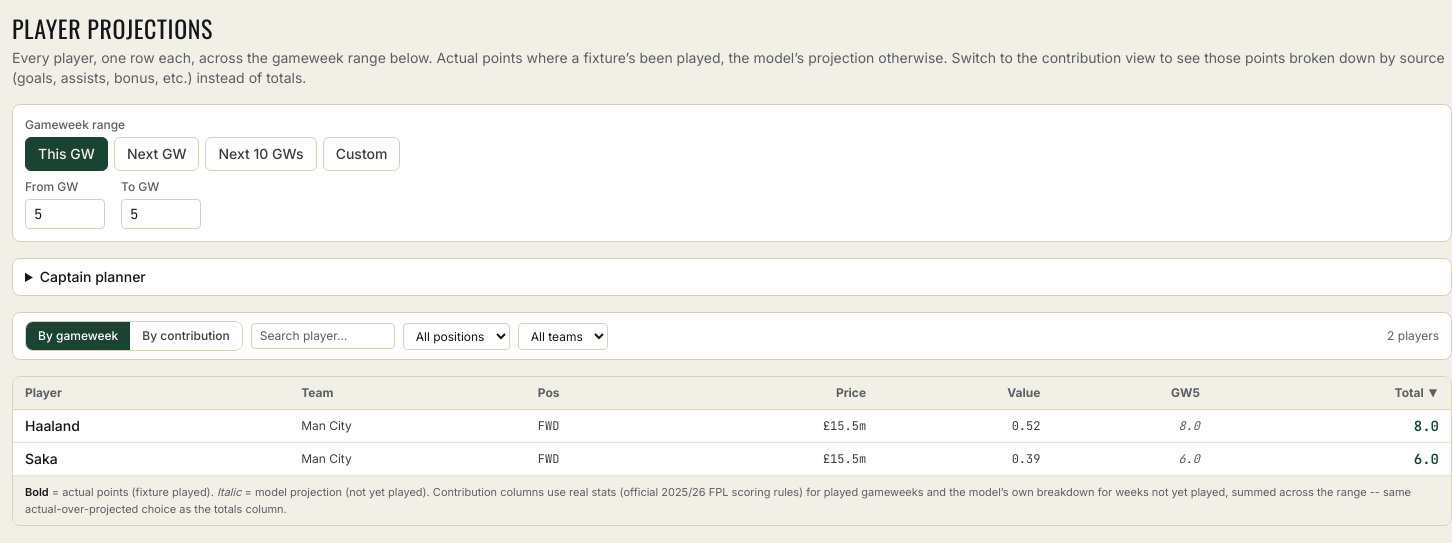
Scenario: PlayerProjectionsTablePage › filters by search text
Expected: the text "Haaland" is shown, [13,410,293,442]
Expected: the text "Saka" is shown, [13,442,293,475]
Type "saka" into the field with placeholder "Search player…".
click(323, 336); type("saka")  # box [251,323,395,349]
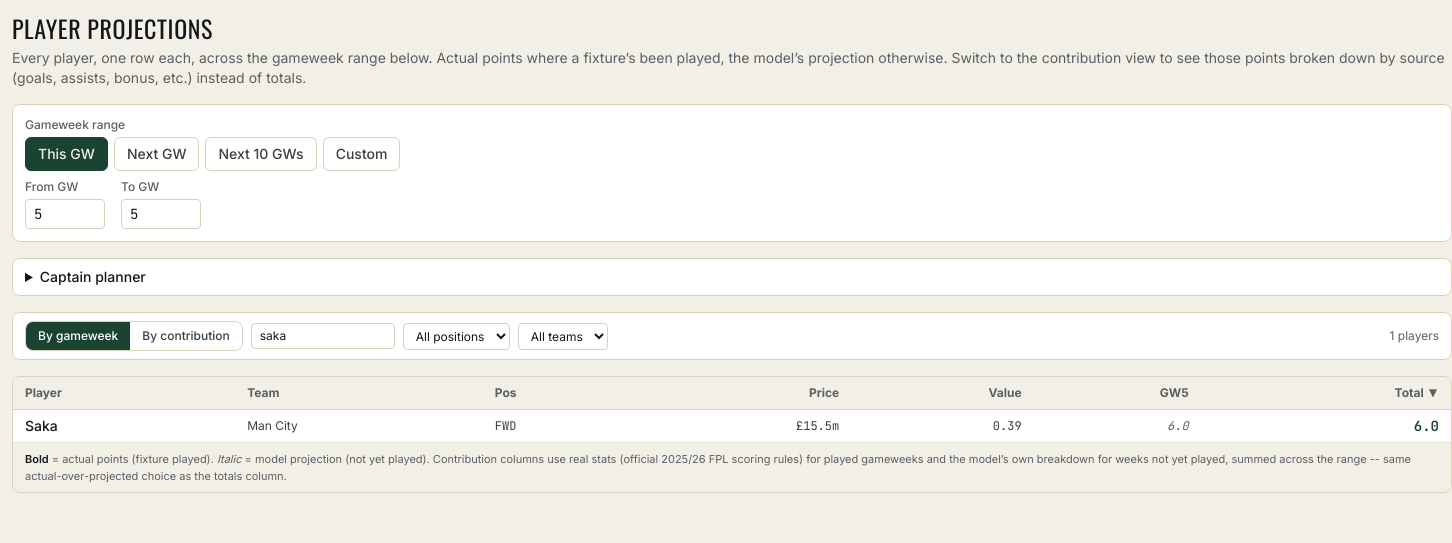
Expected: the text "Saka" is shown, [13,410,239,442]
Expected: the text "Haaland" is gone
